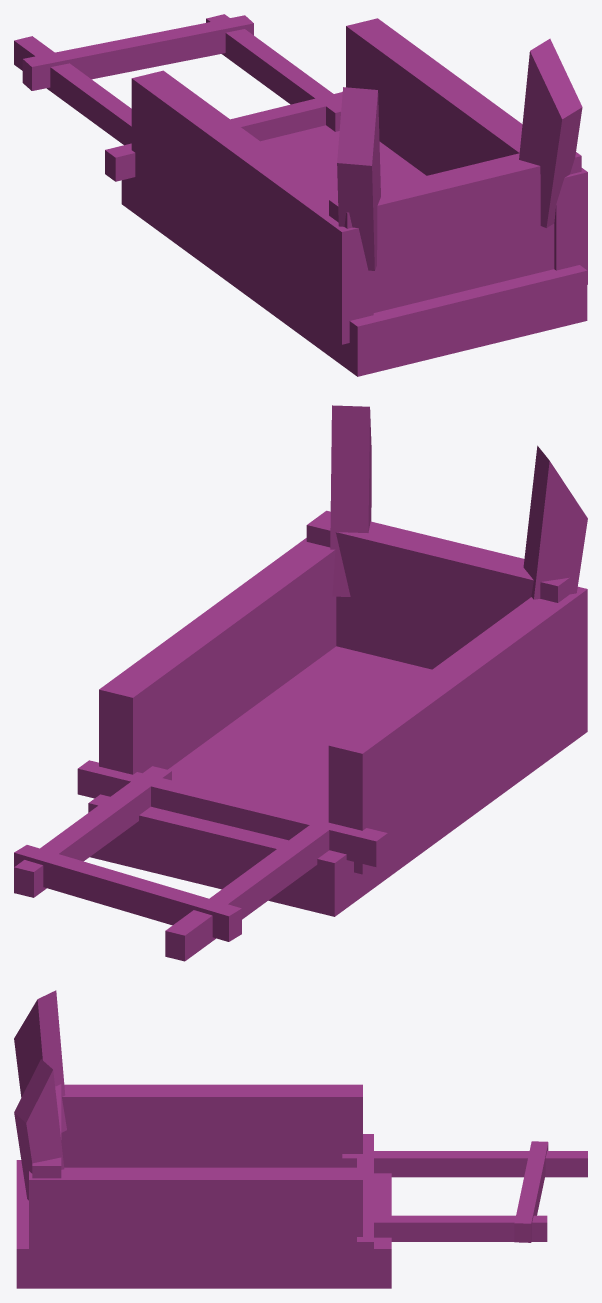
Rendered from SM_Veh_Cart_04_Collision.fbx.
3 views of the same model, one above another, from view 1: azimuth 30°, elevation 25°; view 2: azimuth 150°, elevation 25°; view 3: azimuth 270°, elevation 25° (orthographic). The views are drawn at different scales.
Parts seen in each view (by area): view 1: SM_Veh_Cart_04_Collision; view 2: SM_Veh_Cart_04_Collision; view 3: SM_Veh_Cart_04_Collision.
Boxes of the visible parts, x1,y1,x2,y2 form: SM_Veh_Cart_04_Collision: [14, 14, 587, 376]; SM_Veh_Cart_04_Collision: [14, 405, 587, 961]; SM_Veh_Cart_04_Collision: [14, 990, 587, 1288].
Bounding box in the file's own units: 221 × 204 × 496.
